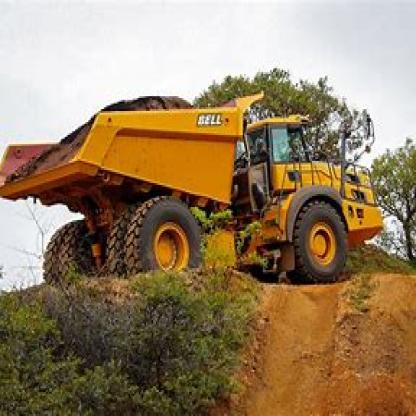dump_truck: (3, 65, 383, 292)
